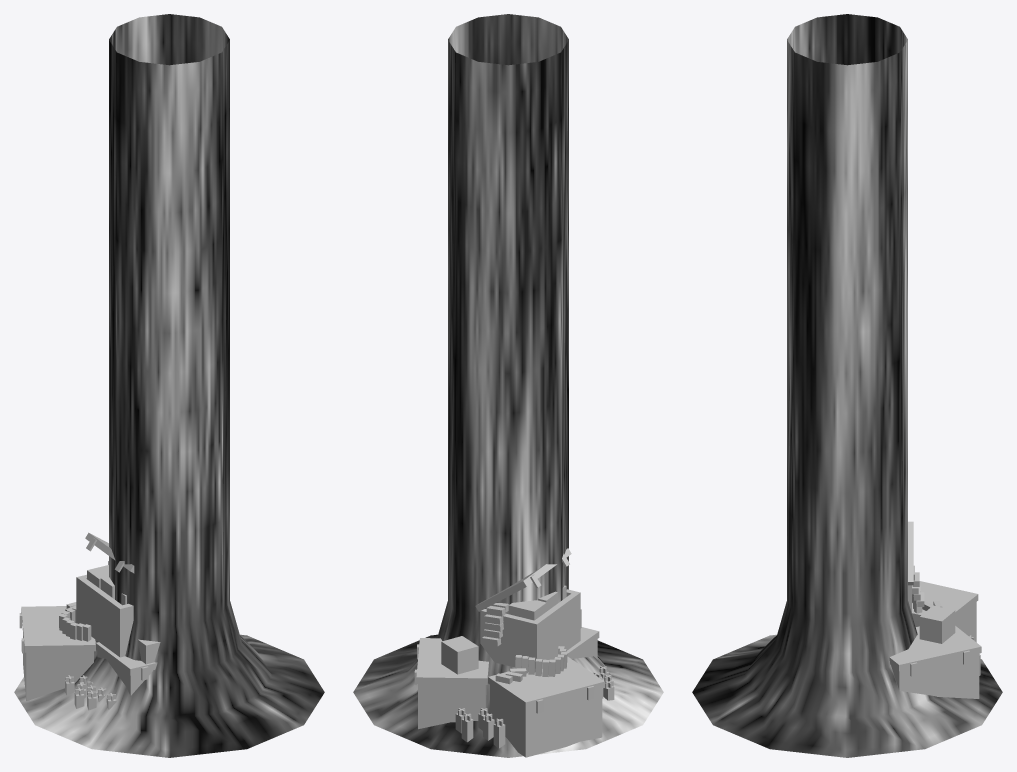
File: Point_Ammo Base #688836.fbx
3 views of the same model, side by side, from view 1: azimuth 30°, elevation 25°; view 2: azimuth 150°, elevation 25°; view 3: azimuth 270°, elevation 25° (orthographic).
Parts seen in each view (by area): view 1: Funnel, Point_Ammo Base; view 2: Funnel, Point_Ammo Base; view 3: Funnel, Point_Ammo Base.
Part boxes in pixels (bbox=[...]): Funnel: bbox=[14, 14, 324, 757]; Point_Ammo Base: bbox=[19, 532, 160, 710]; Funnel: bbox=[353, 14, 663, 757]; Point_Ammo Base: bbox=[414, 548, 614, 757]; Funnel: bbox=[692, 14, 1002, 757]; Point_Ammo Base: bbox=[889, 521, 981, 698].
Bounding box in the file's own units: 3.57 × 8.28 × 3.57.
